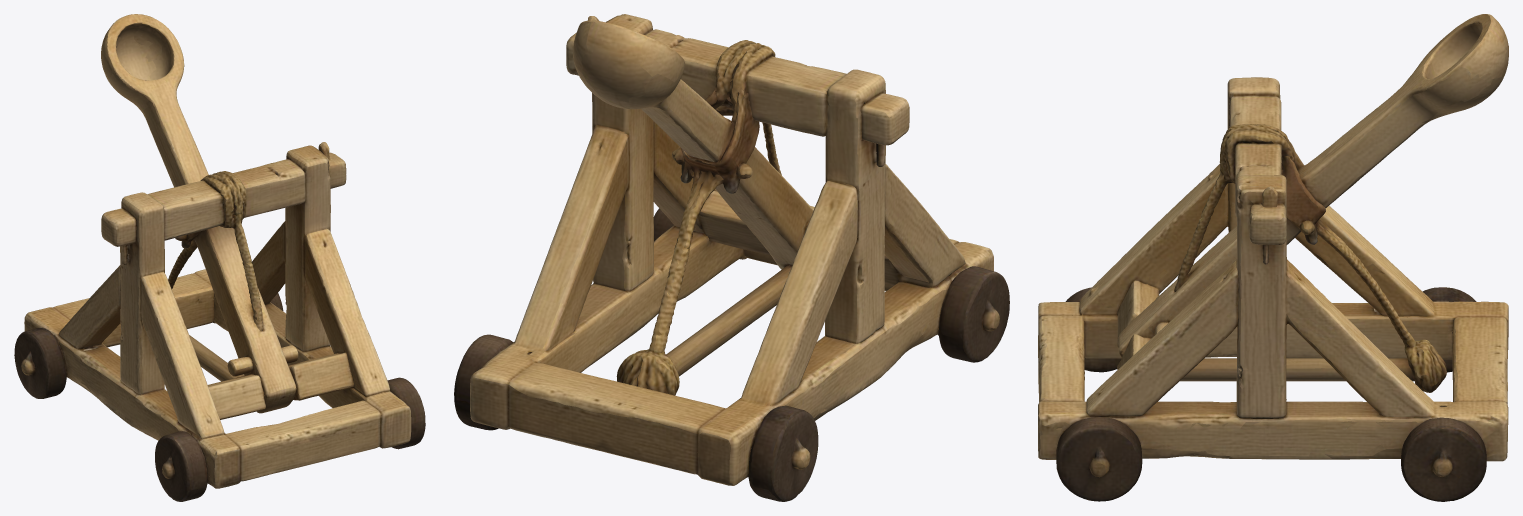
File: parts.glb
3 renders of one model, left to right at view 1: azimuth 30°, elevation 25°; view 2: azimuth 150°, elevation 25°; view 3: azimuth 270°, elevation 25°, orthographic. The views are drawn at different scales.
Size of the model in its own units: 0.35 by 0.4512 by 0.4661.
Materials: 14 (14 with a texture image).
